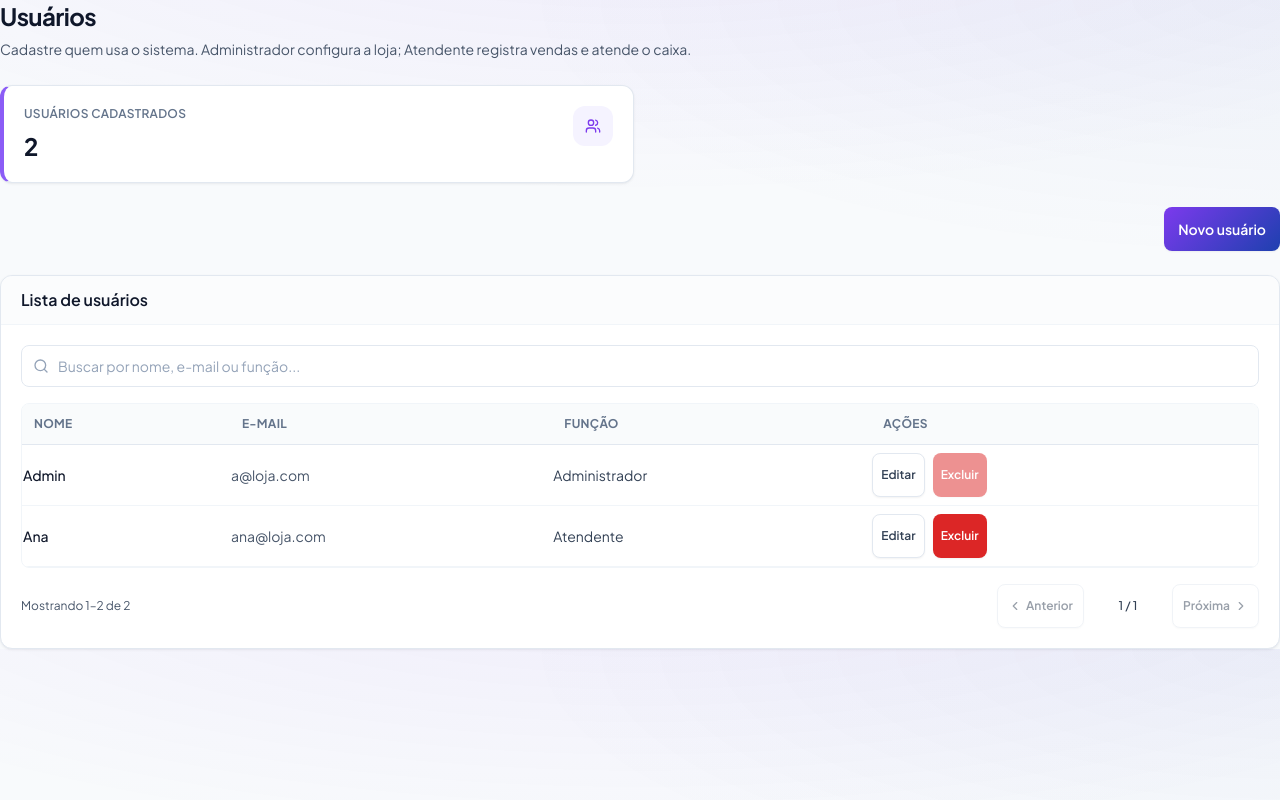
it: Telas React › valida novo usuario no modal
Expected: the heading "Usuários" is shown, [0, 0, 96, 32]
Click the button "Novo usuário" at (1222, 229), box [1164, 207, 1279, 251]
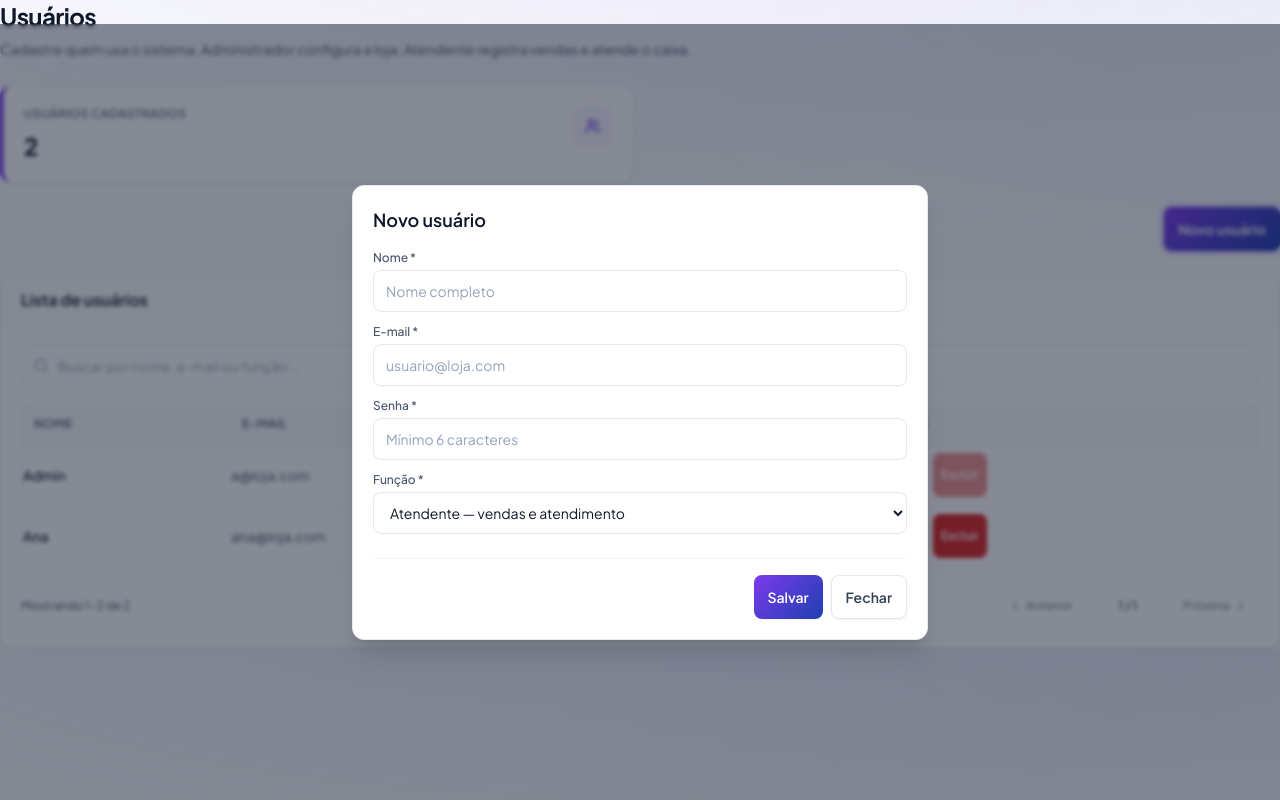
Result: the dialog "Novo usuário" is shown at [352, 184, 928, 640]
Click the button "Salvar" at (788, 596), box [754, 574, 823, 618]
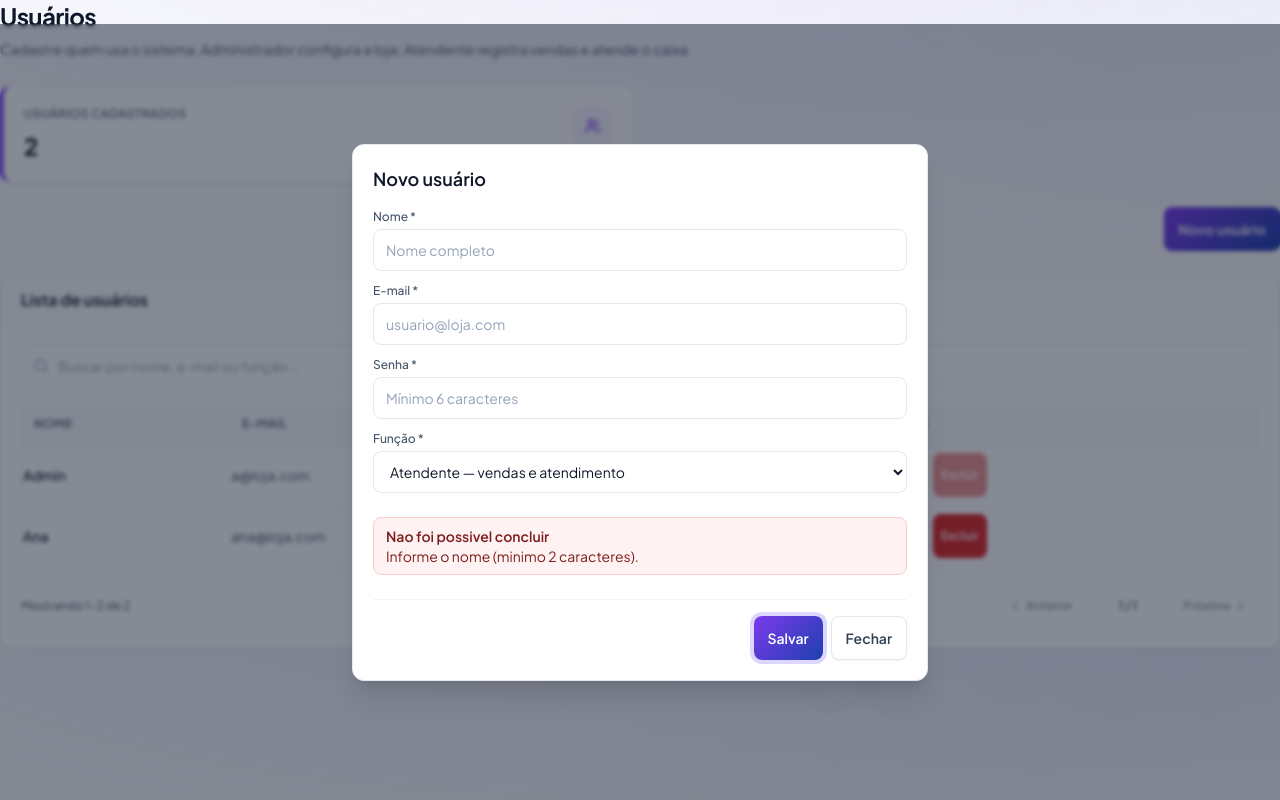
Result: the text "Informe o nome (minimo 2 caracteres)." is shown at [386, 546, 639, 564]
